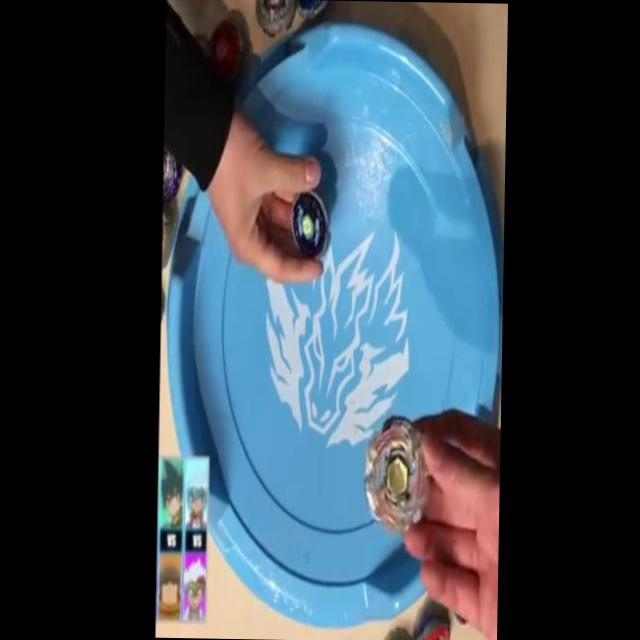Beyblade: (363, 414, 430, 530), (292, 192, 329, 260), (208, 17, 245, 84)
